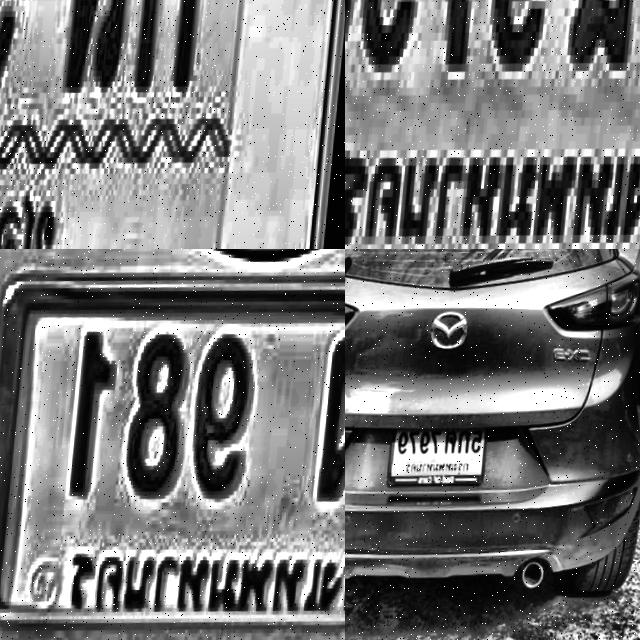license-plate: (0, 249, 345, 640), (0, 0, 345, 249), (345, 0, 640, 249), (379, 408, 500, 502)
